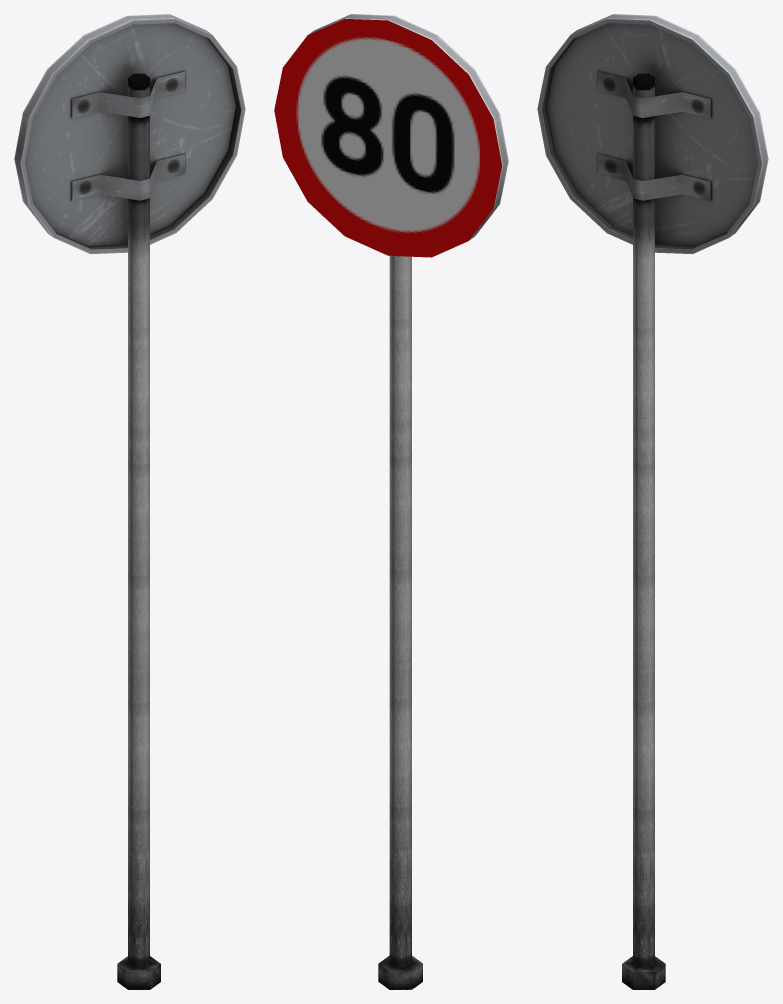
The model's file is TRF0310001.FBX.
The picture shows the model from 3 angles, left to right: view 1: azimuth 30°, elevation 25°; view 2: azimuth 150°, elevation 25°; view 3: azimuth 330°, elevation 25°; orthographic projection.
Parts seen in each view (by area): view 1: smTRF0310001; view 2: smTRF0310001; view 3: smTRF0310001.
Part boxes in pixels (x1,y1,x2,y2): smTRF0310001: [14, 14, 245, 989]; smTRF0310001: [274, 14, 508, 989]; smTRF0310001: [537, 14, 768, 989].
Bounding box in the file's own units: 72.09 × 293 × 12.96.
Materials: 1 (1 with a texture image).
